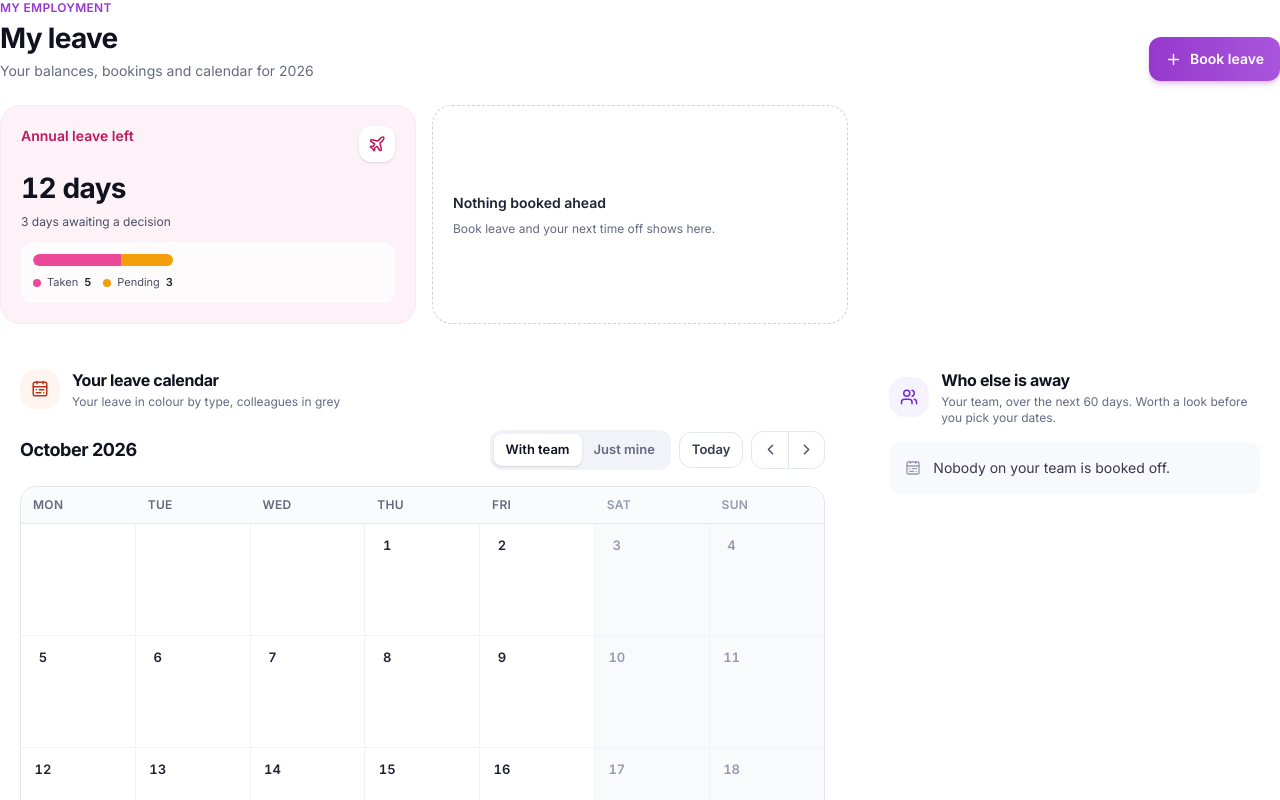
Test: MyLeave › booking › cannot be submitted before a cost is known
What coordinates should you click on to do the following:
click the button "Book leave"
I would click on:
 (1215, 59)
Its box is 1149,37 -> 1279,81.
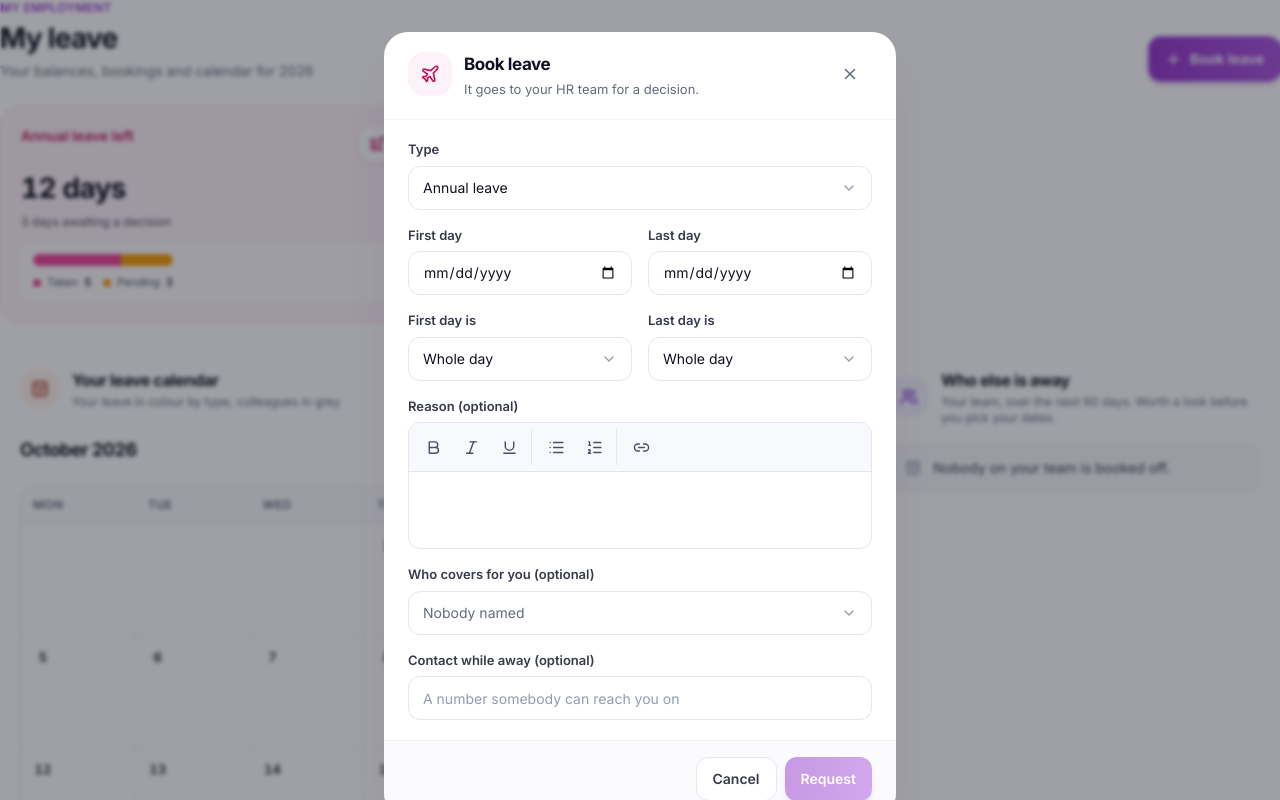
expect the dialog "Book leave" is shown: met, box 384,32 -> 896,799
expect the button "Request" is disabled: met, box 784,757 -> 872,799
